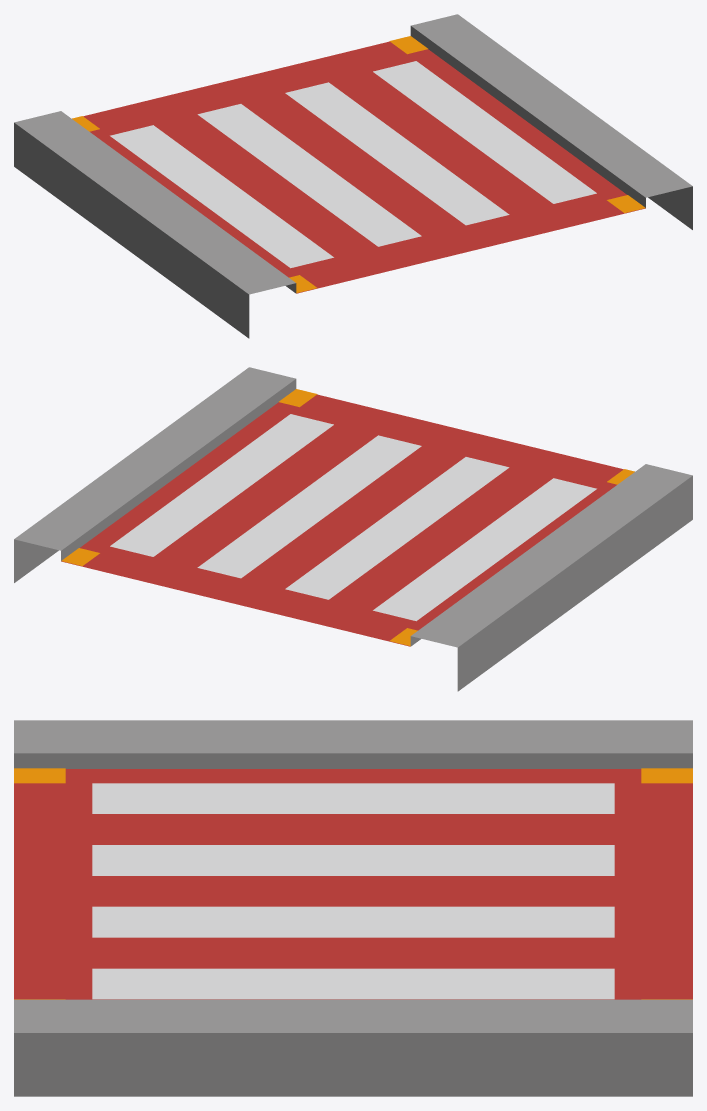
Rendered from Road_C_11.glb.
The picture shows the model from 3 angles, top to bottom: view 1: azimuth 30°, elevation 25°; view 2: azimuth 150°, elevation 25°; view 3: azimuth 270°, elevation 25°; orthographic projection. The views are drawn at different scales.
Visible parts, largest first — view 1: Road_C_11; view 2: Road_C_11; view 3: Road_C_11.
Boxes of the visible parts, <box> form: Road_C_11: <box>14,14,692,338</box>; Road_C_11: <box>14,367,692,691</box>; Road_C_11: <box>14,720,692,1096</box>.
Size of the model in its own units: 4.36 by 0.4148 by 4.
Materials: 1 (1 with a texture image).
